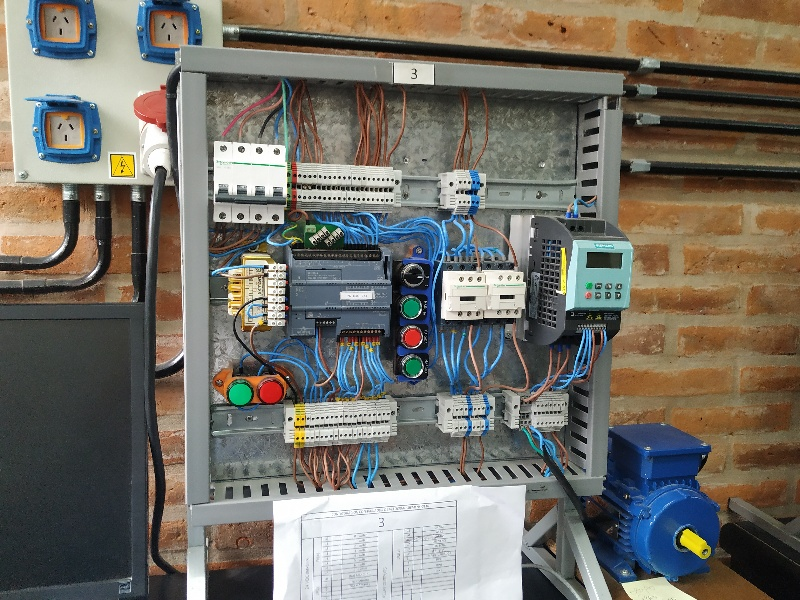Tablero 3: (195, 56, 636, 487)
